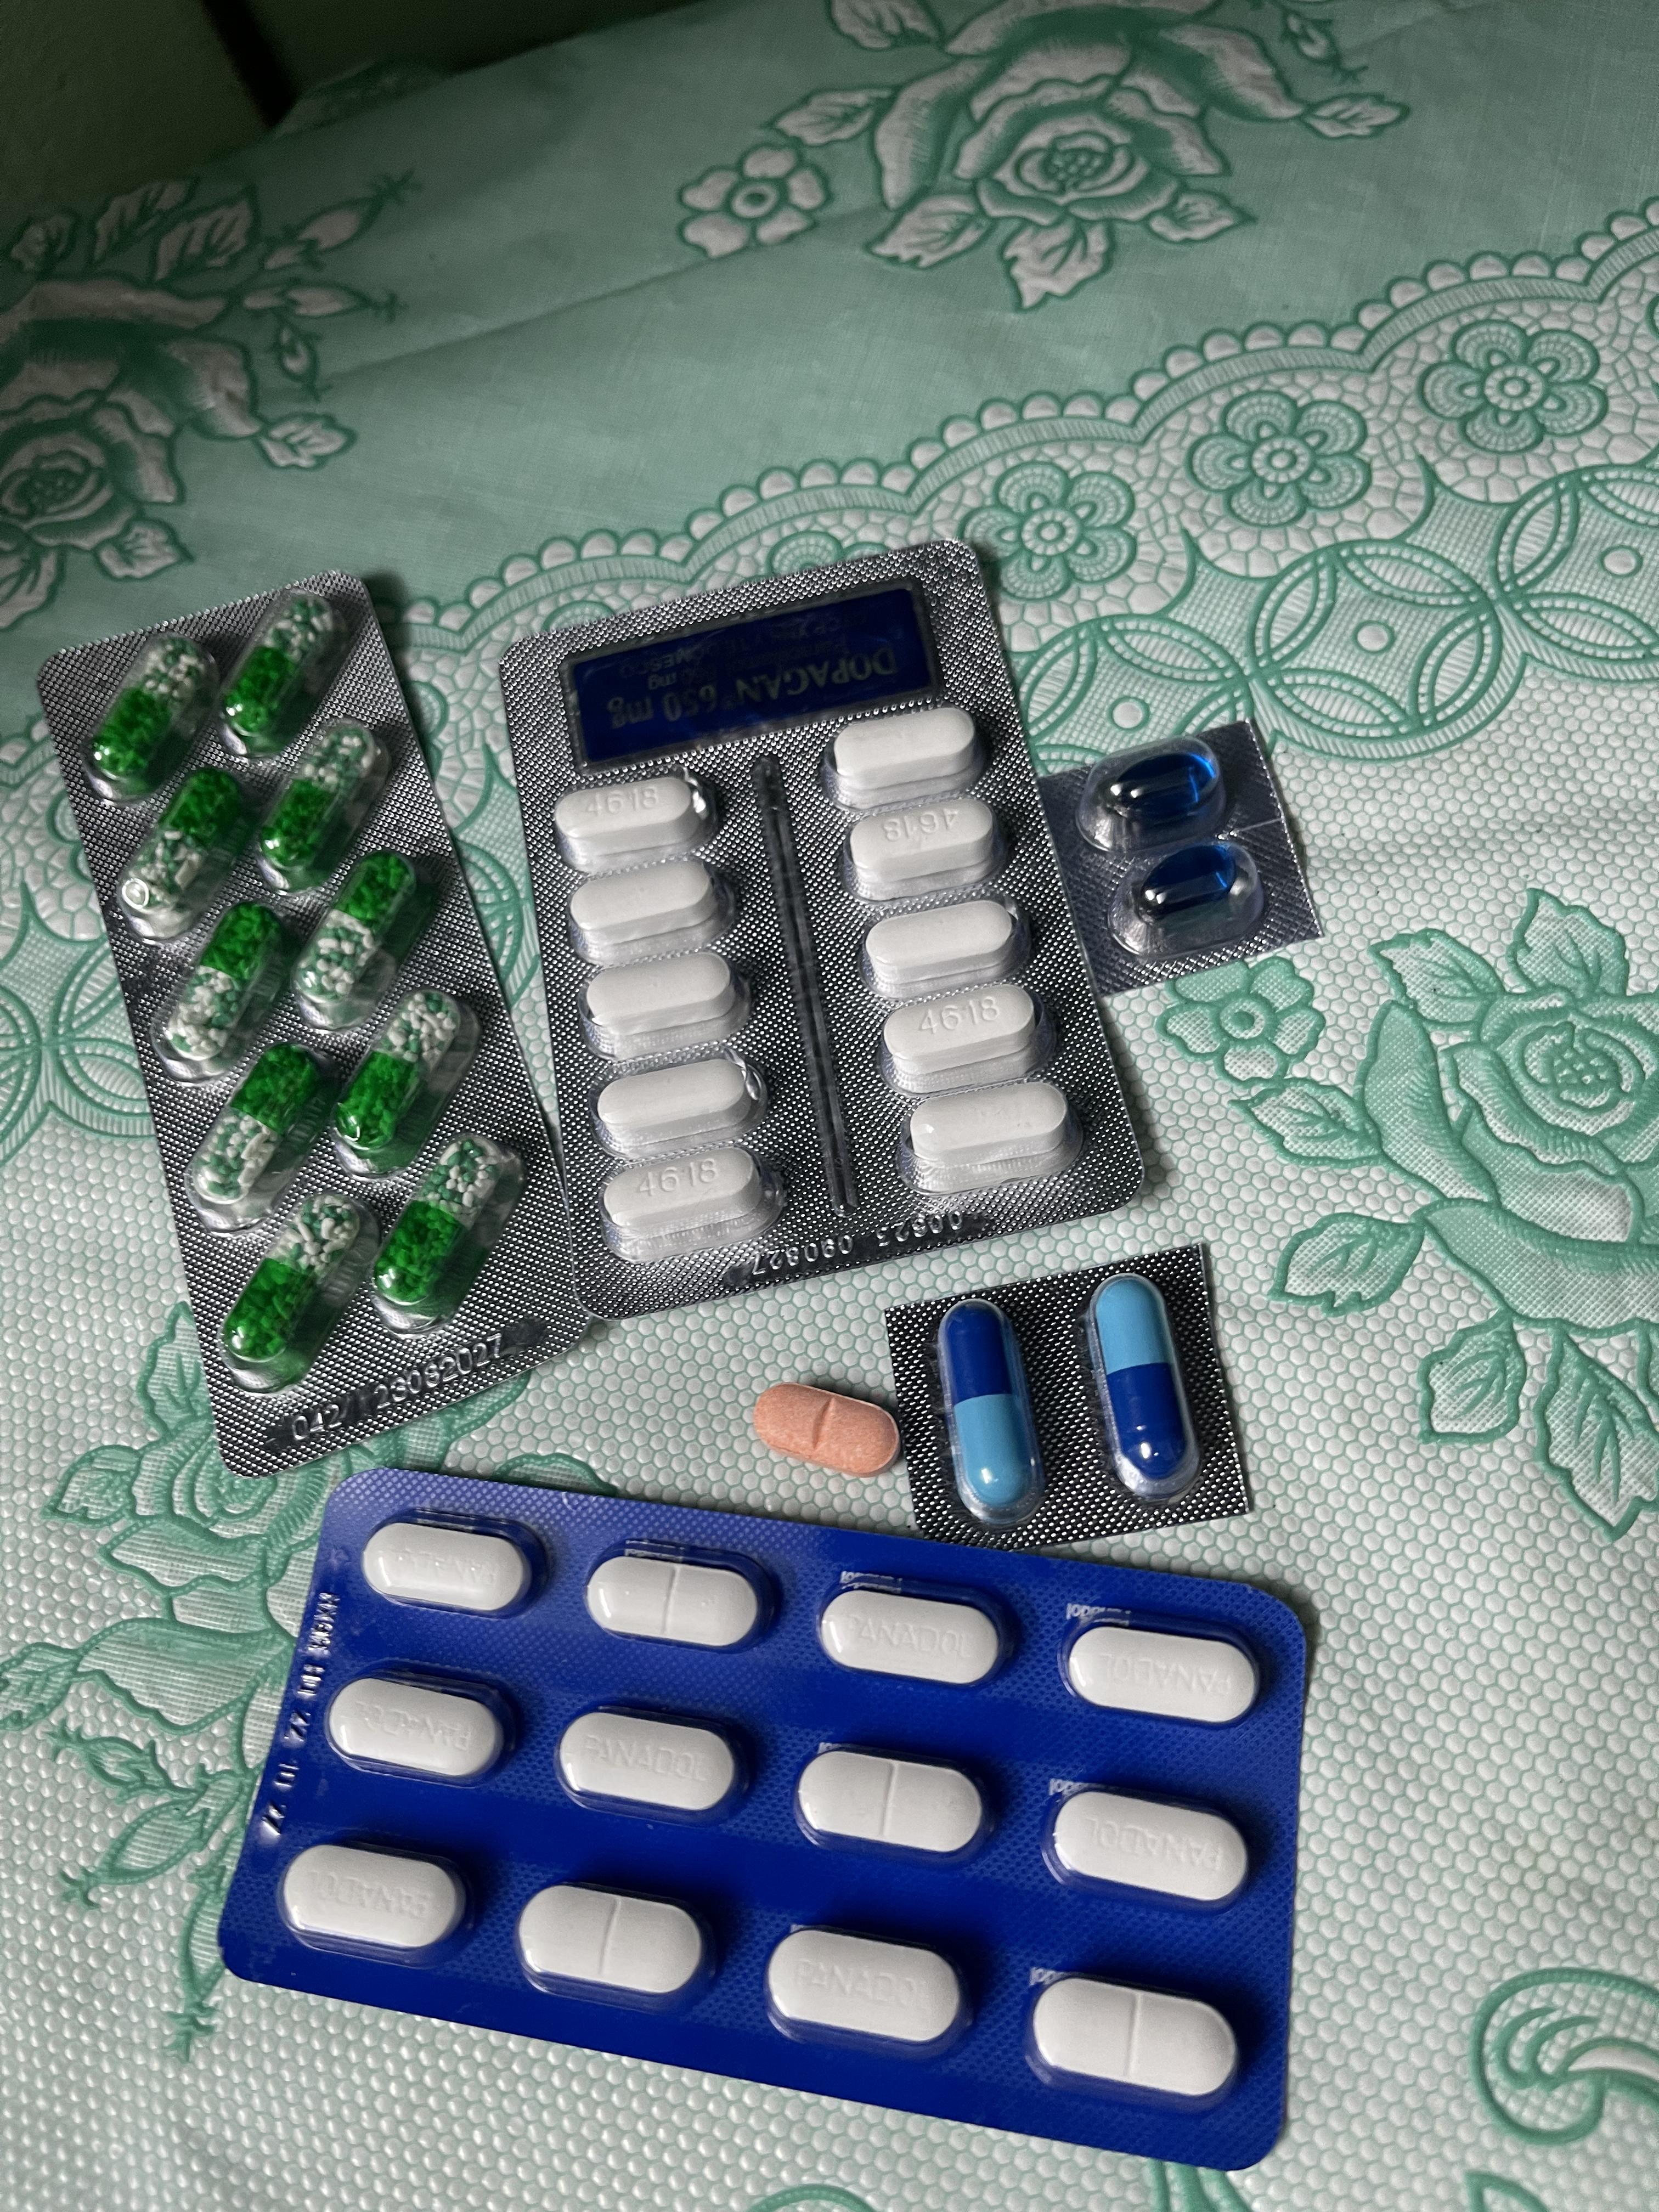Lincomyxin_500mg: (1138, 841, 1243, 918), (1108, 751, 1215, 820)
Loratadine_10mg: (755, 1381, 903, 1477)
Paracetamol_350mg: (1026, 1972, 1244, 2111), (763, 1925, 971, 2057), (1046, 1785, 1256, 1912), (516, 1881, 714, 2012), (795, 1743, 995, 1864), (1060, 1616, 1263, 1731), (281, 1841, 472, 1963), (556, 1703, 753, 1822), (324, 1672, 514, 1787), (817, 1580, 1012, 1691), (586, 1547, 774, 1653), (362, 1519, 542, 1620)
Paracetamol_500mg: (901, 1080, 1075, 1198), (603, 1148, 777, 1259), (568, 855, 730, 963), (596, 1055, 763, 1160), (864, 899, 1025, 1007), (584, 949, 746, 1055), (882, 981, 1042, 1087), (847, 796, 1000, 900), (554, 772, 713, 873), (830, 705, 983, 803)
Paracetamol_650mg: (211, 1195, 376, 1383), (364, 1134, 521, 1324), (317, 988, 471, 1167), (185, 1042, 340, 1217), (253, 721, 392, 894), (296, 853, 436, 1022), (155, 904, 295, 1071), (115, 770, 254, 935), (216, 589, 349, 752), (85, 637, 218, 796)
pill: (1084, 1270, 1202, 1501), (936, 1301, 1044, 1529)
